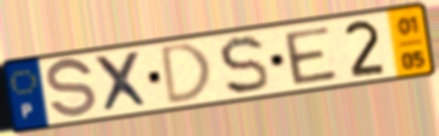2: (343, 18, 387, 79)
D: (159, 40, 215, 109)
E: (280, 24, 341, 87)
S: (43, 55, 99, 123), (216, 34, 272, 98)
X: (90, 49, 154, 116)
